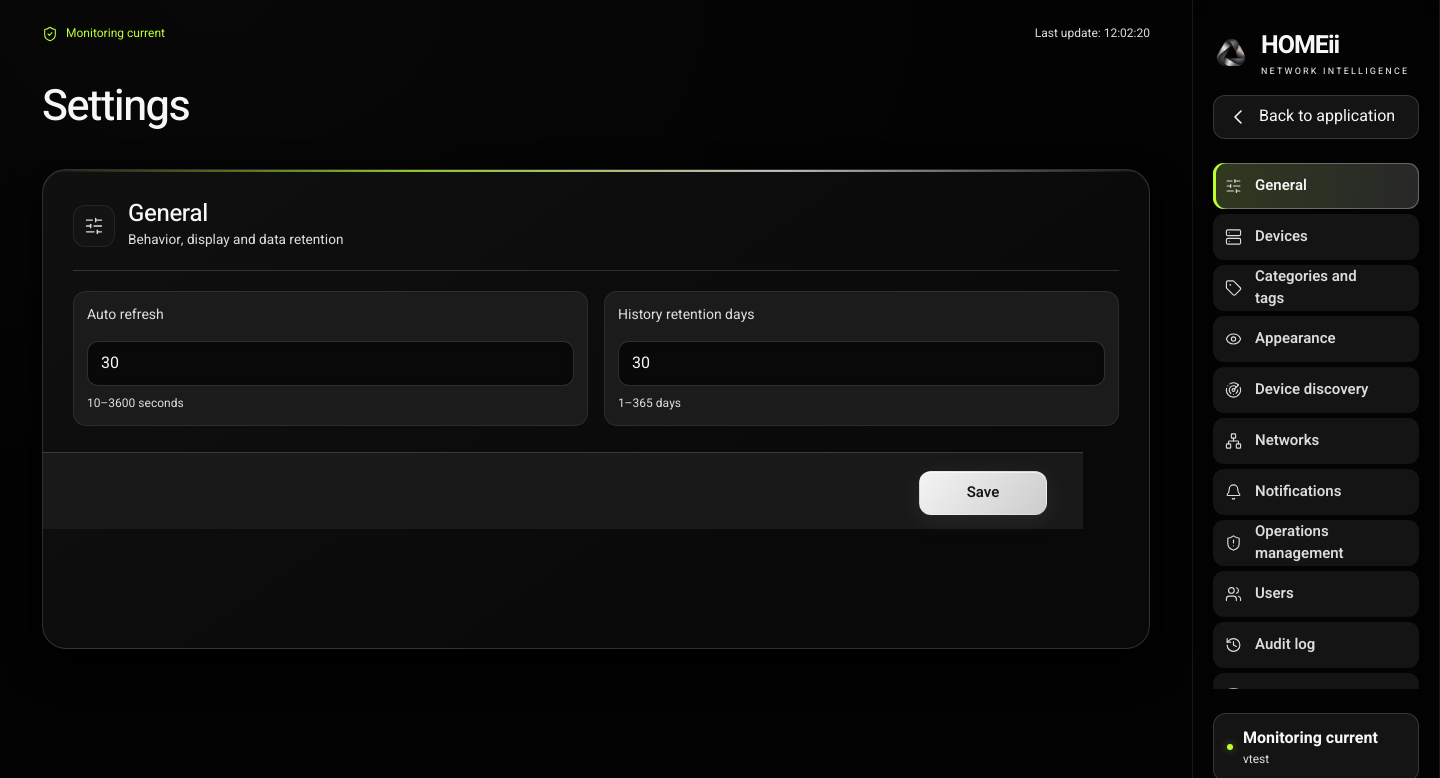
Scenario: secondary forms and navigation › opens and closes the notification dialog
The width and height of the screenshot is (1440, 778).
Expected: the button "Back to application" is shown, [1213,95,1419,139]
Click the button "Notifications".
click(1316, 492)  # box [1213,469,1419,515]
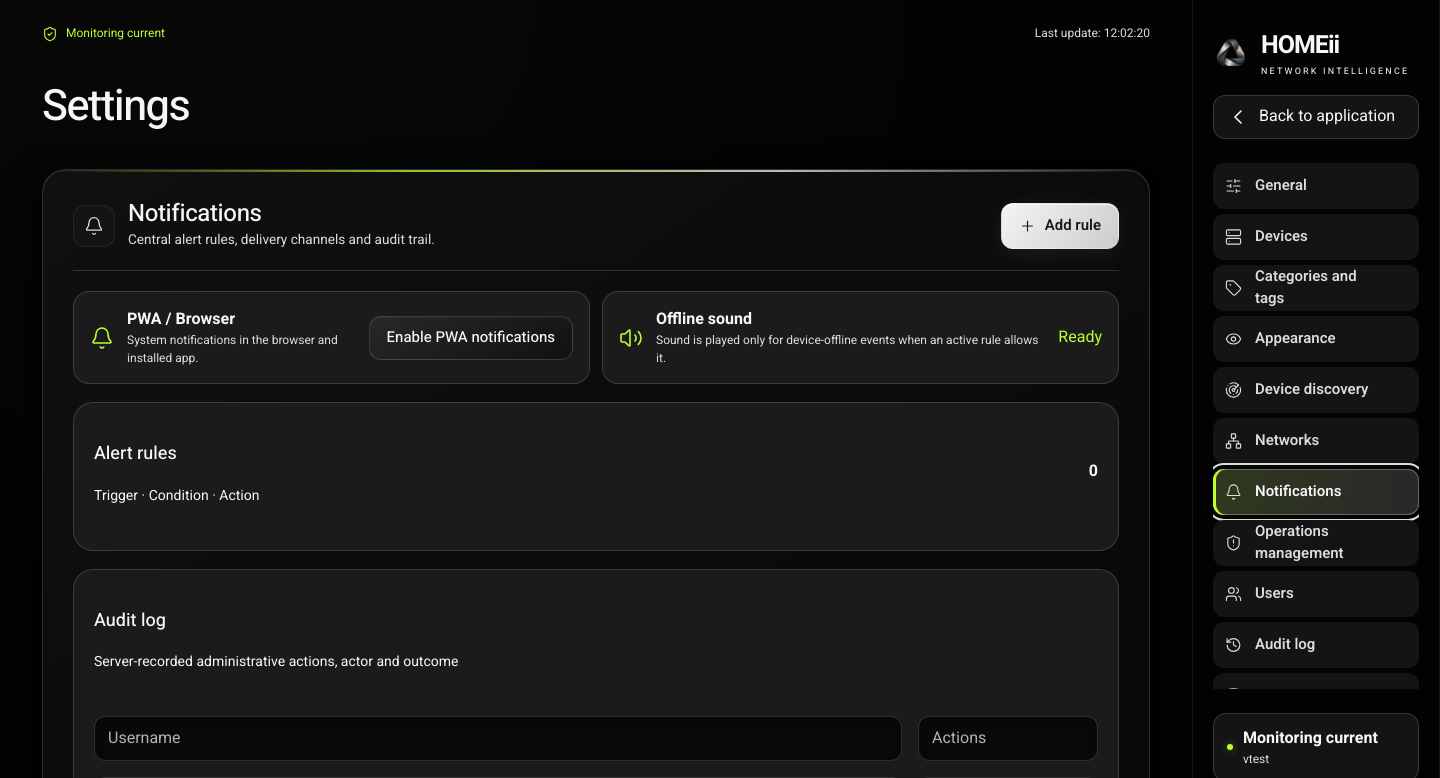
Click the button "Add rule".
click(1060, 226)  # box [1001,203,1119,249]
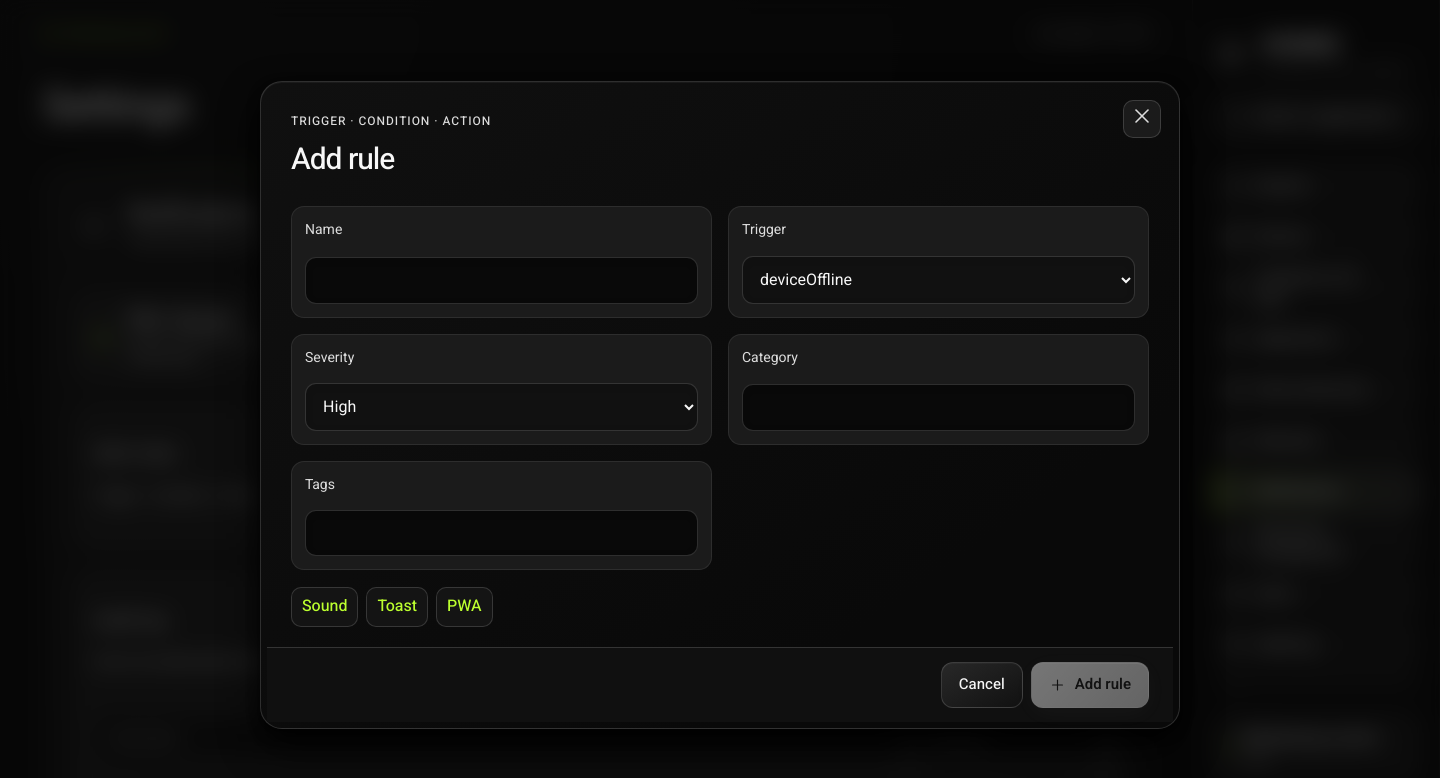
Expected: the element with class "modal-card" is shown, [260,82,1180,729]
Click the button with class "modal-close".
click(1142, 120)  # box [1123,100,1161,138]
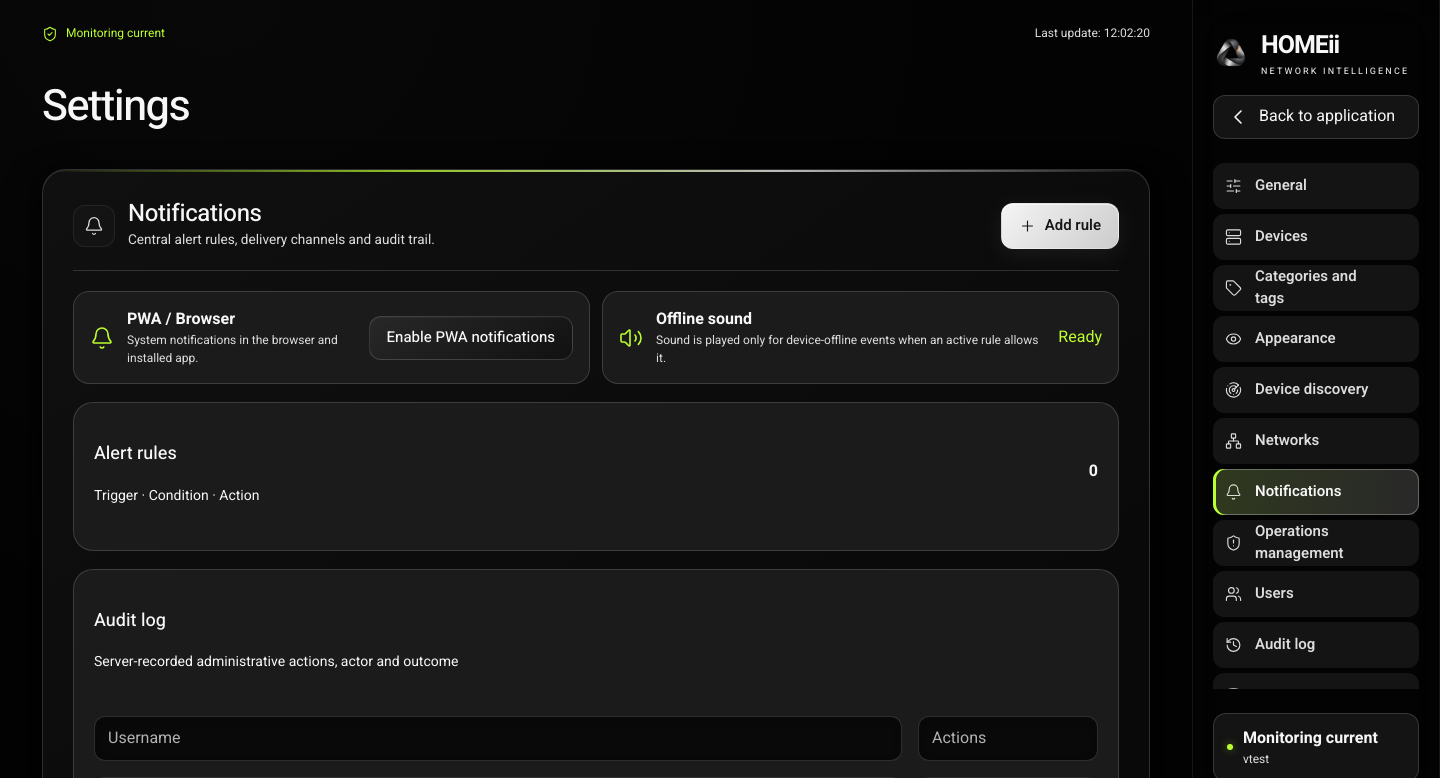
Expected: the element with class "modal-card" is gone
